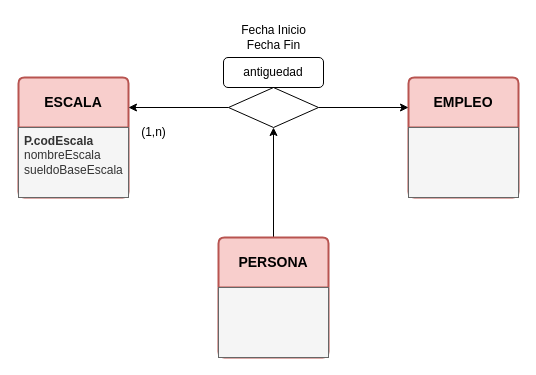
The diagram is 536 pixels wide and 375 high, and some of its shapes have lost their labels. Each missing label, with the centre of its shape:
"1:1:N" belongs at pixel 273 107.
"P. dni nombre prApellido sgApellido" belongs at pixel 273 322.
"P.codEmpleo nombreEmpleo complemento" belongs at pixel 463 162.
